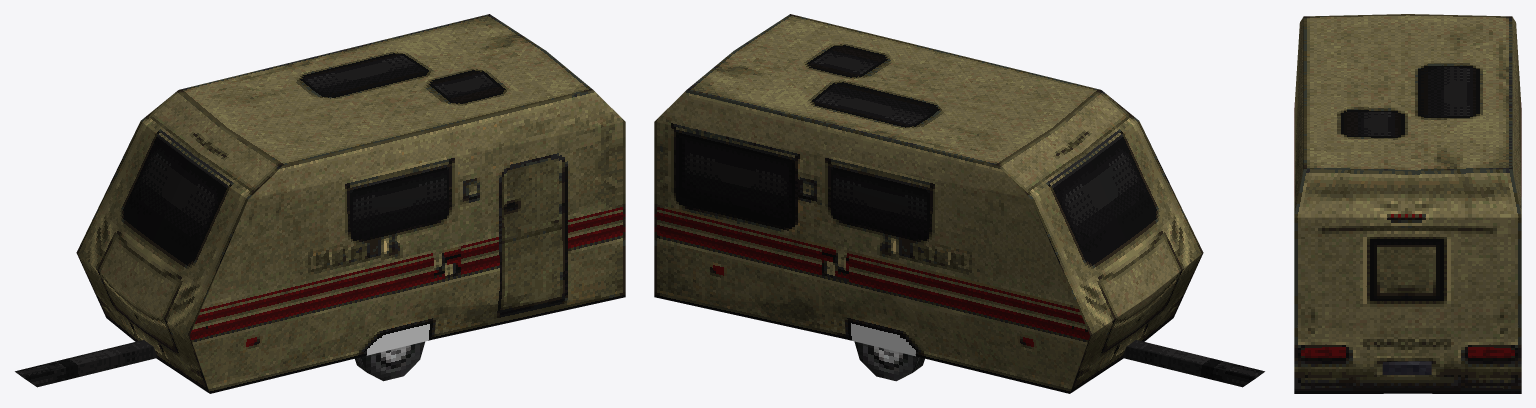
3 views of the same model, side by side, from view 1: azimuth 30°, elevation 25°; view 2: azimuth 150°, elevation 25°; view 3: azimuth 270°, elevation 25° (orthographic).
Visible parts, largest first — view 1: Caravan, Tire.018; view 2: Caravan, Tire.017; view 3: Caravan, LicensePlate.005.
Part boxes in pixels (<box>): Caravan: <box>15,14,625,393</box>; Tire.018: <box>355,341,424,381</box>; Caravan: <box>654,14,1264,393</box>; Tire.017: <box>854,341,924,381</box>; Caravan: <box>1294,14,1521,393</box>; LicensePlate.005: <box>1382,361,1431,374</box>.
Size of the model in its own units: 5.73 by 2.41 by 2.04.
Materials: 3 (3 with a texture image).
